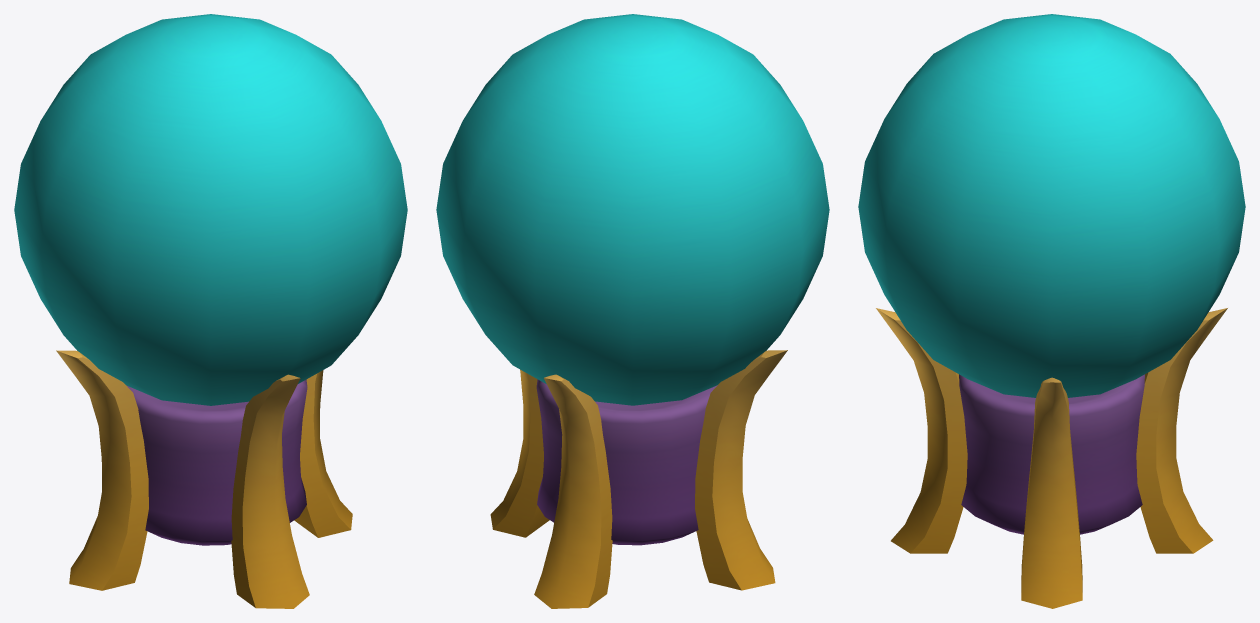
The model's file is OBJ_CrystalBall.fbx.
3 views of the same model, side by side, from view 1: azimuth 30°, elevation 25°; view 2: azimuth 150°, elevation 25°; view 3: azimuth 270°, elevation 25° (orthographic).
Parts seen in each view (by area): view 1: OBJ_CrystalBall; view 2: OBJ_CrystalBall; view 3: OBJ_CrystalBall.
Part boxes in pixels (x1,y1,x2,y2): OBJ_CrystalBall: (14, 14, 407, 608); OBJ_CrystalBall: (436, 14, 829, 608); OBJ_CrystalBall: (858, 14, 1245, 608).
Size of the model in its own units: 37.62 by 54.58 by 37.62.
